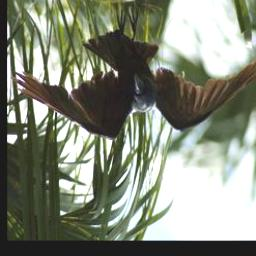Crow: (15, 8, 256, 143)
